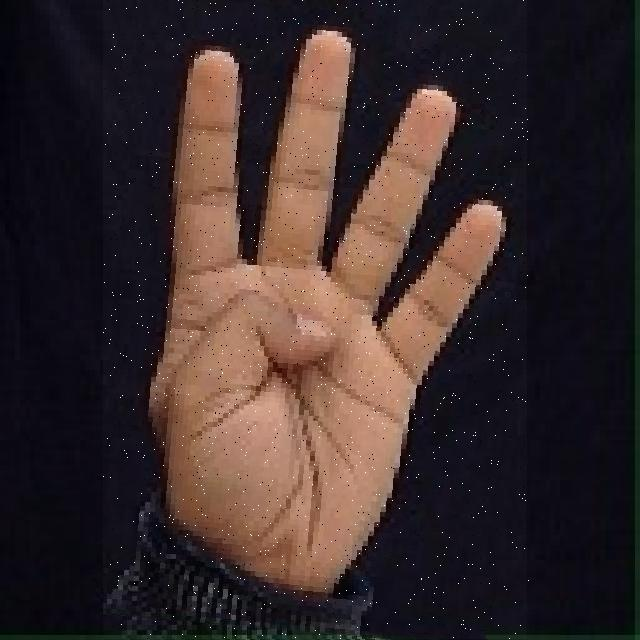Thanks: (103, 0, 530, 639)
